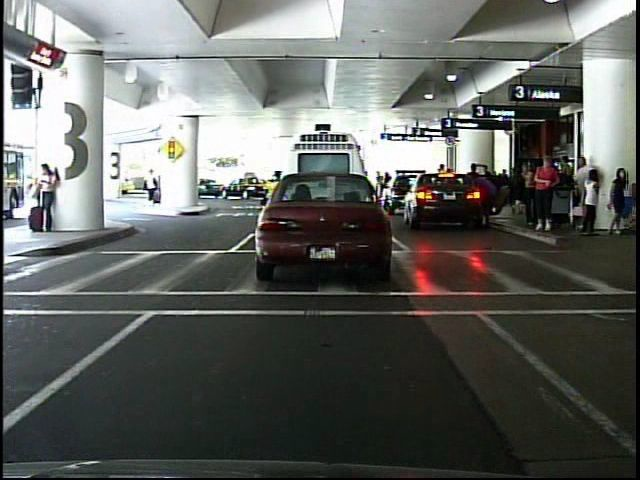person: (534, 152, 560, 235), (37, 160, 63, 234), (139, 163, 166, 207)
